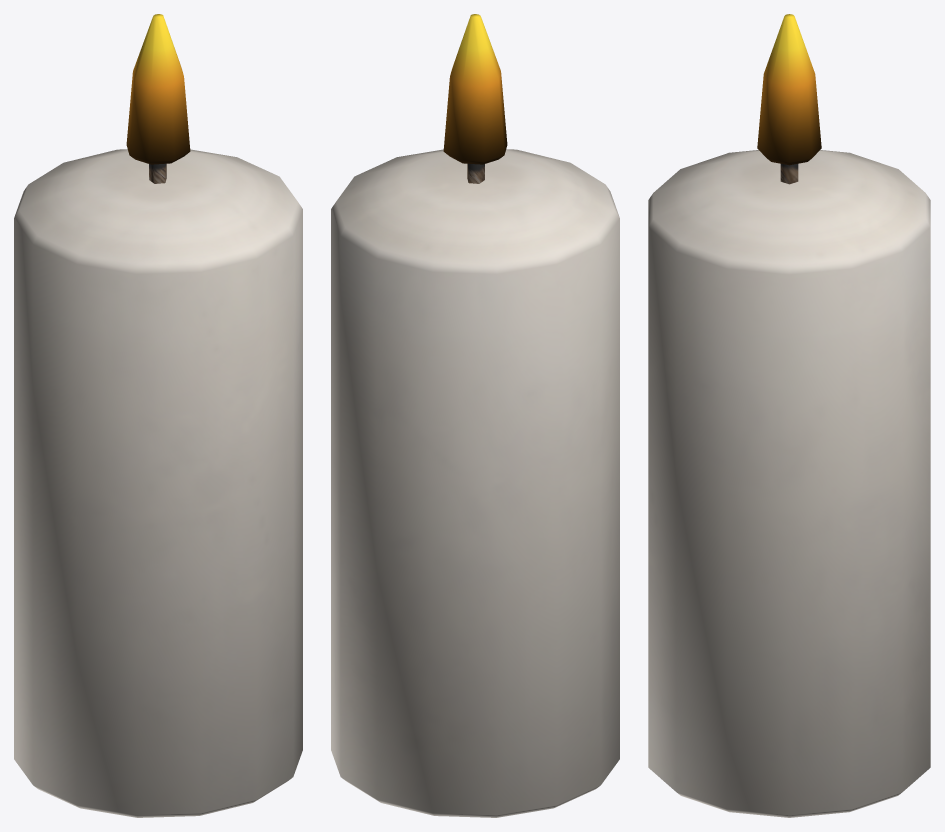
File: DecorCandles01_3.FBX
3 views of the same model, side by side, from view 1: azimuth 30°, elevation 25°; view 2: azimuth 150°, elevation 25°; view 3: azimuth 270°, elevation 25° (orthographic).
Parts seen in each view (by area): view 1: DecorCandles01_3; view 2: DecorCandles01_3; view 3: DecorCandles01_3.
Part boxes in pixels (bbox=[...]): DecorCandles01_3: bbox=[14, 14, 302, 817]; DecorCandles01_3: bbox=[331, 14, 619, 817]; DecorCandles01_3: bbox=[648, 14, 930, 817].
Size of what is drawn, in the model's own units: 0.095 by 0.2691 by 0.0926.
